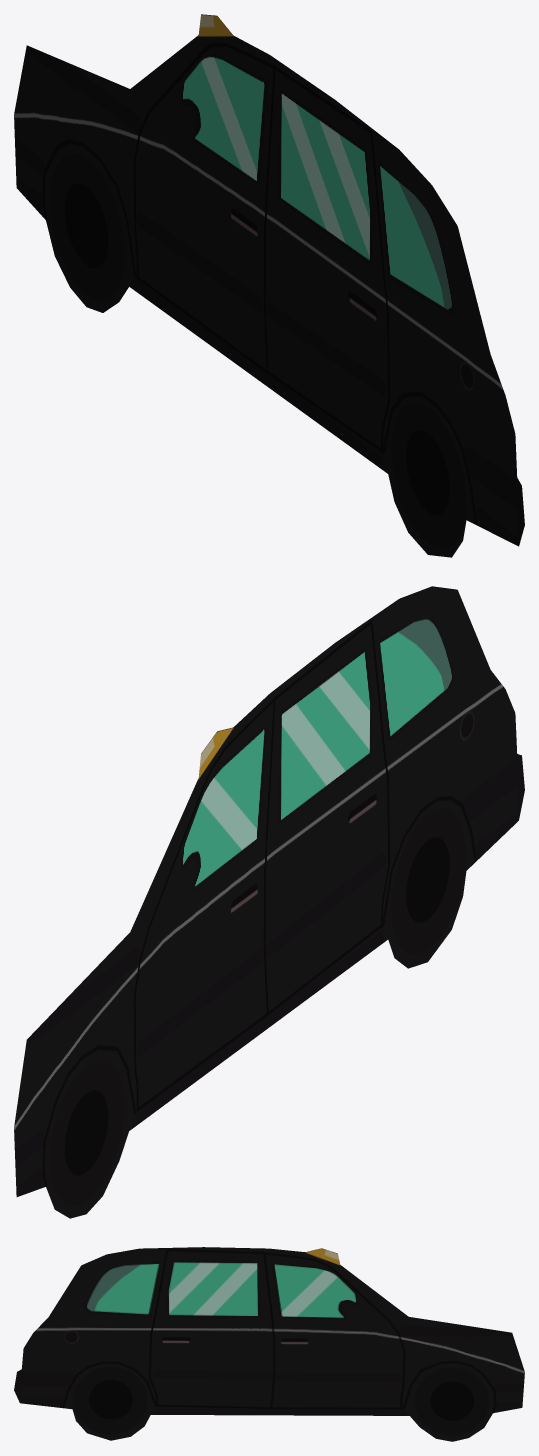
The model's file is SM_Taxi_HUB.fbx.
3 renders of one model, top to bottom at view 1: azimuth 30°, elevation 25°; view 2: azimuth 150°, elevation 25°; view 3: azimuth 270°, elevation 25°, orthographic. The views are drawn at different scales.
Visible parts, largest first — view 1: polySurface1; view 2: polySurface1; view 3: polySurface1.
Part boxes in pixels (left/top/right/bottom): polySurface1: left=14, top=14, right=524, bottom=557; polySurface1: left=14, top=586, right=524, bottom=1218; polySurface1: left=14, top=1247, right=524, bottom=1441.
Bounding box in the file's own units: 0 × 19.11 × 45.46.
